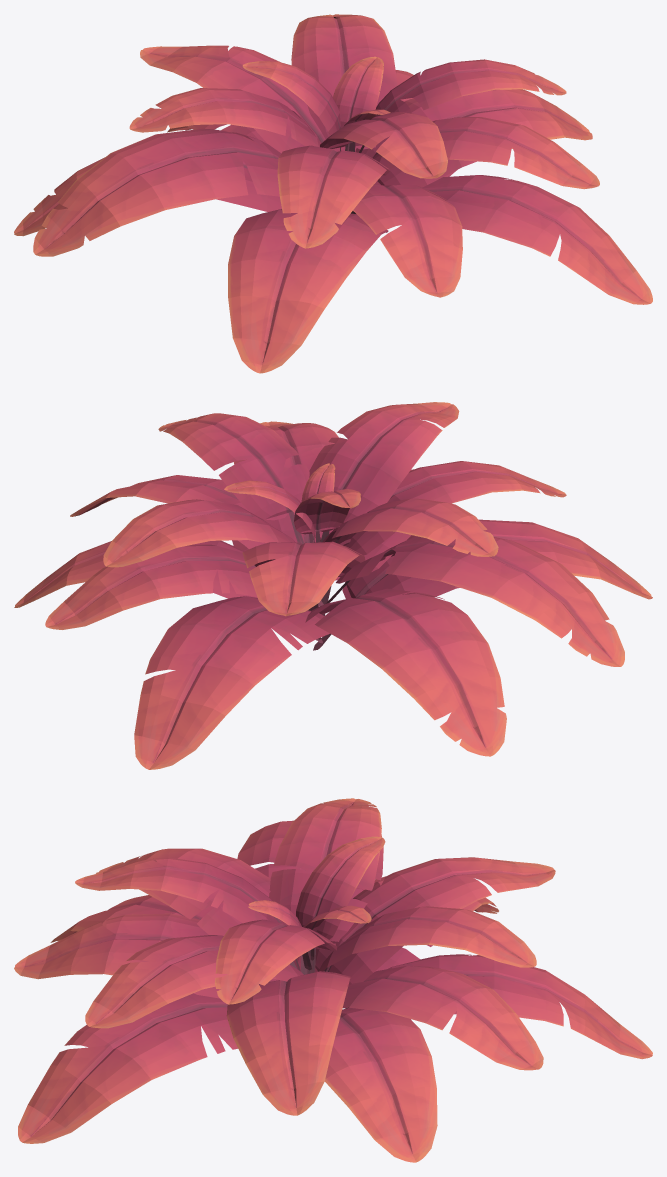
The model's file is bushB.glb.
The picture shows the model from 3 angles, top to bottom: view 1: azimuth 30°, elevation 25°; view 2: azimuth 150°, elevation 25°; view 3: azimuth 270°, elevation 25°; orthographic projection. The views are drawn at different scales.
Parts seen in each view (by area): view 1: bush_flat_A; view 2: bush_flat_A; view 3: bush_flat_A.
Part boxes in pixels (x1,y1,x2,y2): bush_flat_A: (14,14,652,373); bush_flat_A: (14,402,652,769); bush_flat_A: (14,798,652,1162).
Bounding box in the file's own units: 8.93 × 2.79 × 8.63.
1 material, 1 textured.
